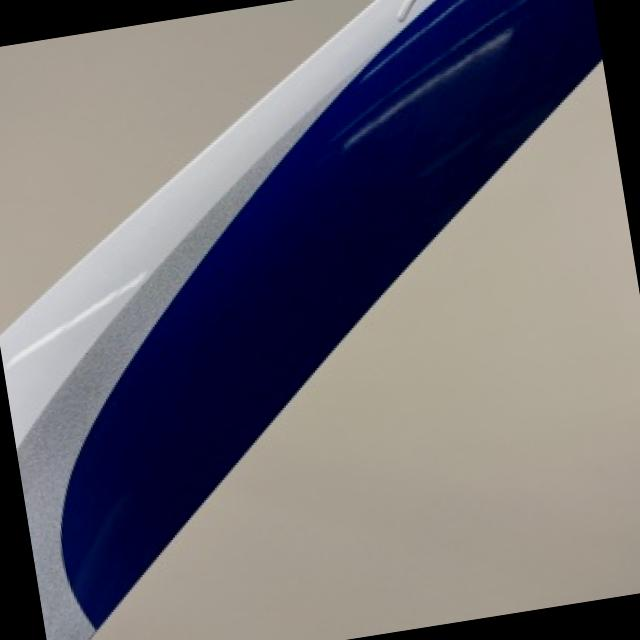healthy: (89, 66, 640, 640)
